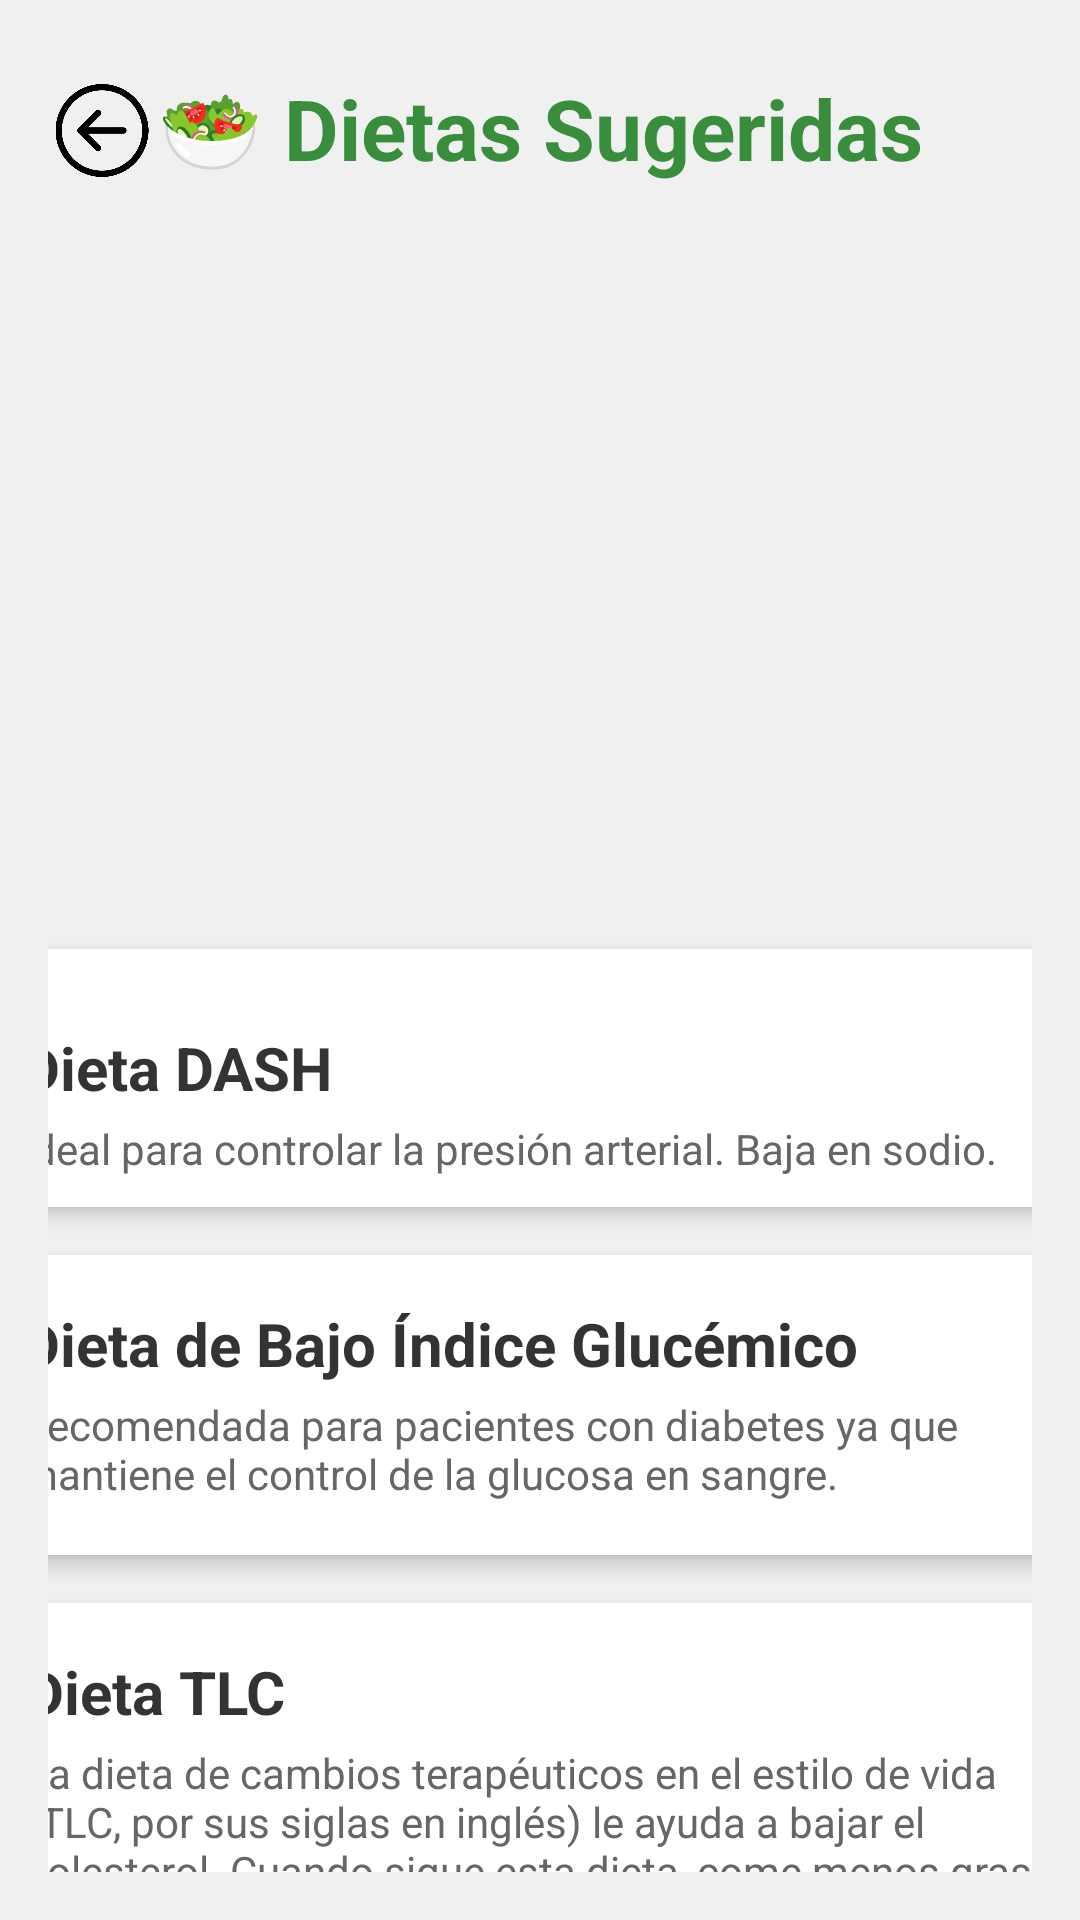

Screen size 1080×1920. Icon name, then its box in pixels as (x1, y1, x2, y2):
back: (56, 84, 149, 177)
